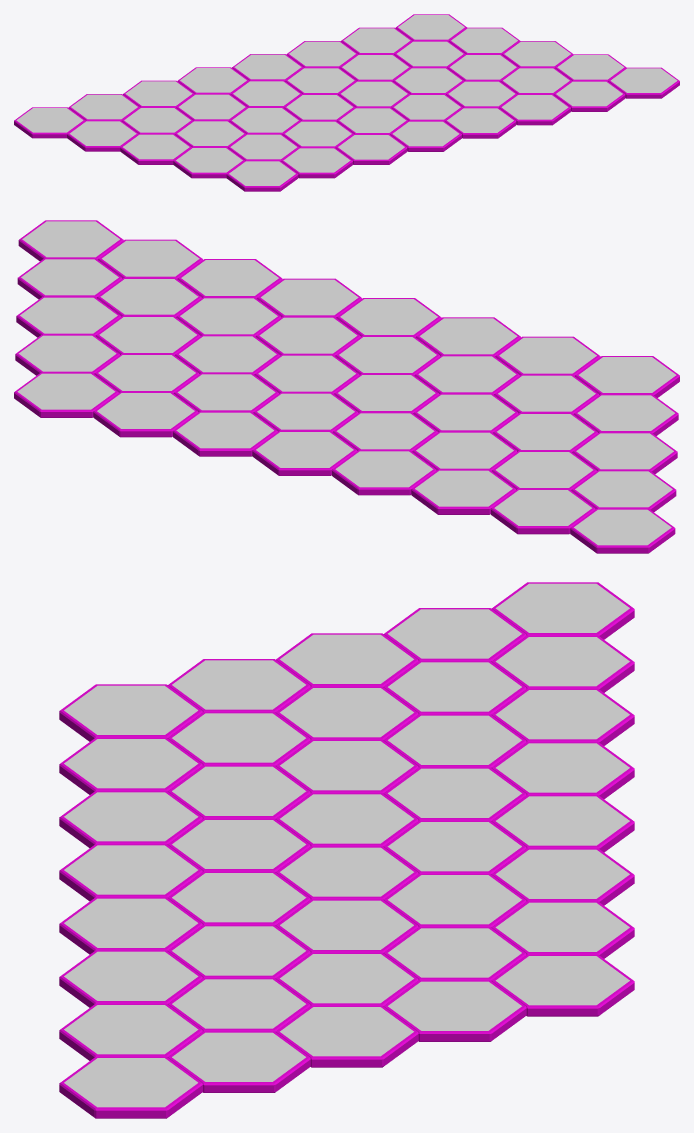
File: JumpWall.fbx
3 views of the same model, one above another, from view 1: azimuth 30°, elevation 25°; view 2: azimuth 150°, elevation 25°; view 3: azimuth 270°, elevation 25° (orthographic). The views are drawn at different scales.
Parts seen in each view (by area): view 1: JumpWall; view 2: JumpWall; view 3: JumpWall.
Boxes of the visible parts, x1,y1,x2,y2 form: JumpWall: (14,14,679,191); JumpWall: (14,220,679,553); JumpWall: (59,582,634,1118).
Bounding box in the file's own units: 1718 × 15 × 792.
